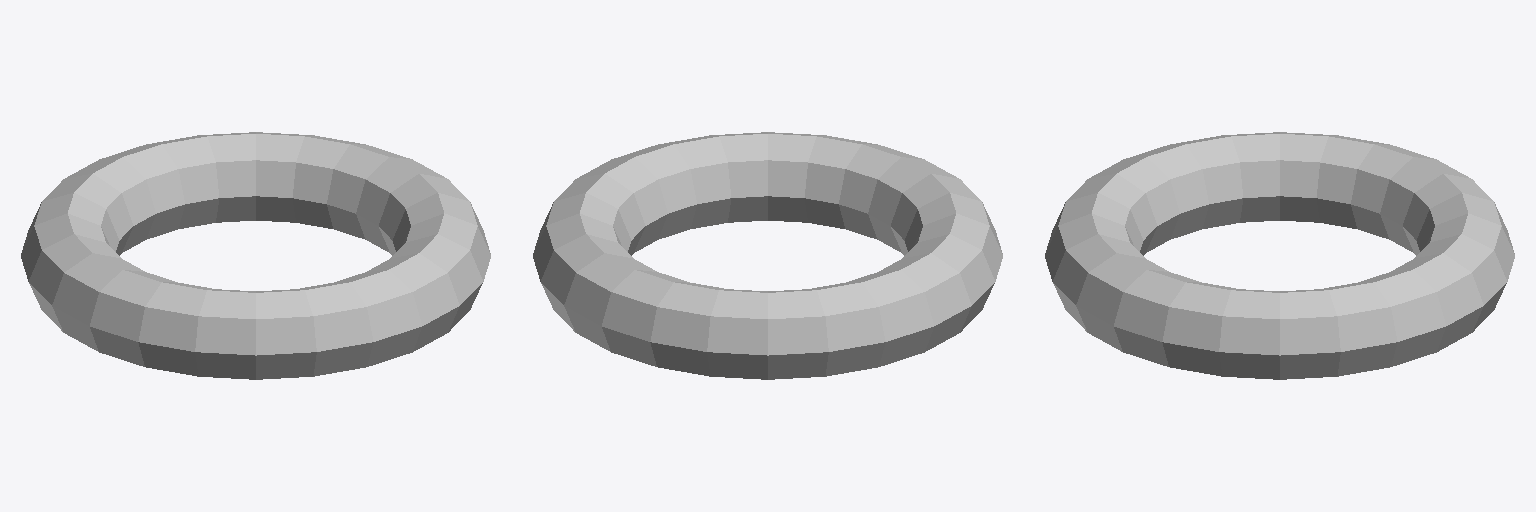
File: ring.obj
The picture shows the model from 3 angles: view 1: azimuth 30°, elevation 25°; view 2: azimuth 150°, elevation 25°; view 3: azimuth 270°, elevation 25°; orthographic projection.
Parts seen in each view (by area): view 1: ring:Mesh; view 2: ring:Mesh; view 3: ring:Mesh.
Part boxes in pixels (left/top/right/bottom): ring:Mesh: left=21, top=132, right=490, bottom=379; ring:Mesh: left=533, top=132, right=1002, bottom=379; ring:Mesh: left=1045, top=132, right=1514, bottom=379.
Size of the model in its own units: 1.34 by 0.2682 by 1.34.